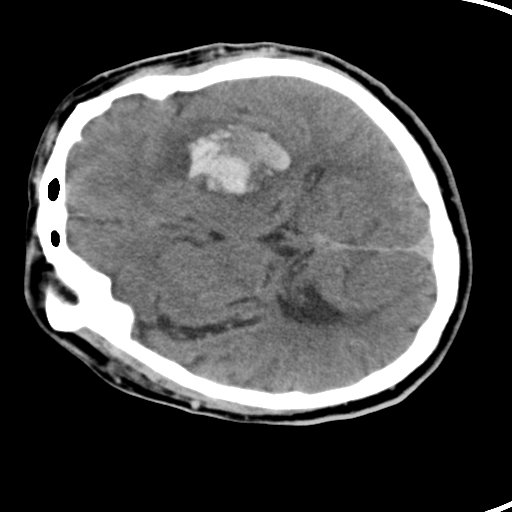a: (145, 104, 303, 209)
